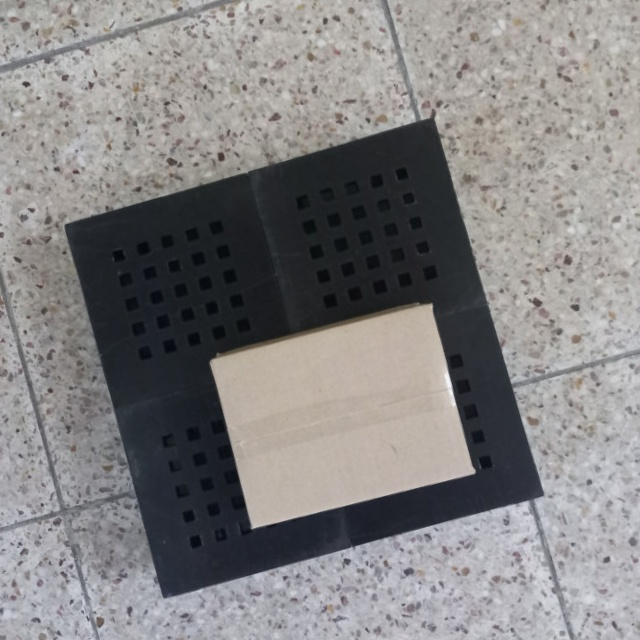box: (205, 294, 478, 540)
pallet: (48, 109, 555, 605)
